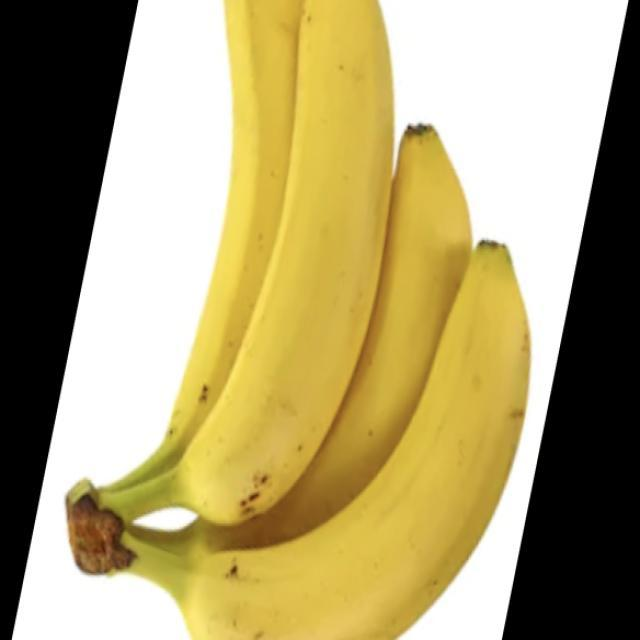Banana: (70, 7, 537, 640)
